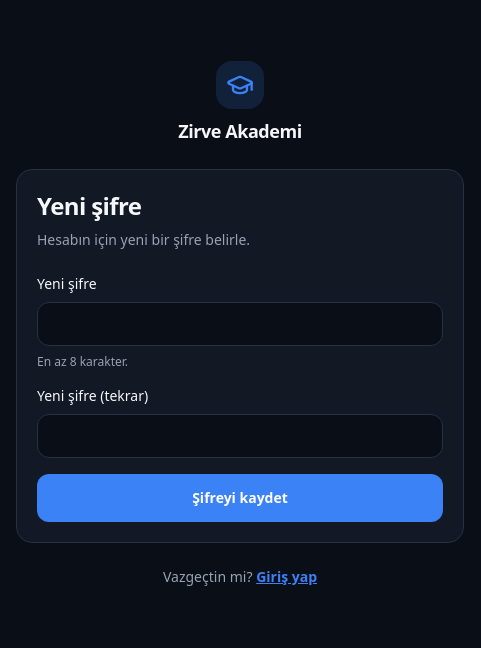
Scenario: şifre sıfırlama token ile şifreyi değiştirir ve girişe döner
This screenshot has width=481, height=648.
Step 1. Type "gizli-sifre-123" into the password field labelled "Yeni şifre" → (240, 324), box [37,302,443,346]
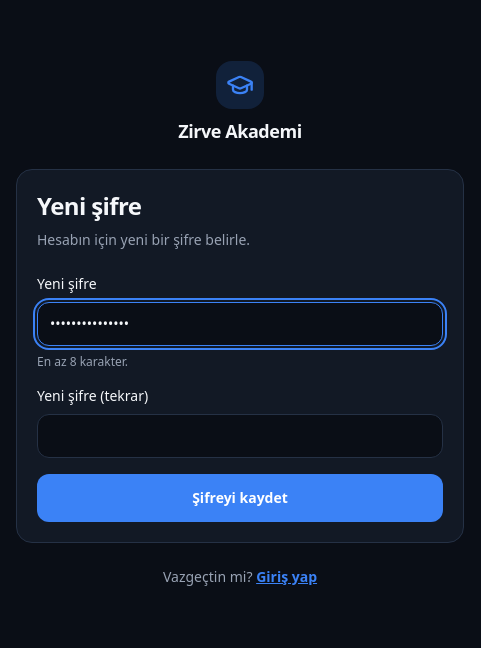
Step 2. Type "gizli-sifre-123" into the password field labelled "Yeni şifre (tekrar)" → (240, 436), box [37,414,443,458]
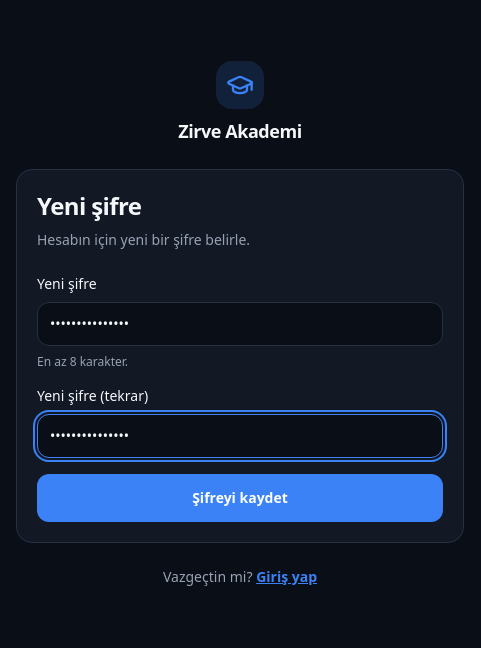
Step 3. Click the button "Şifreyi kaydet" → click(240, 498), box [37,474,443,522]
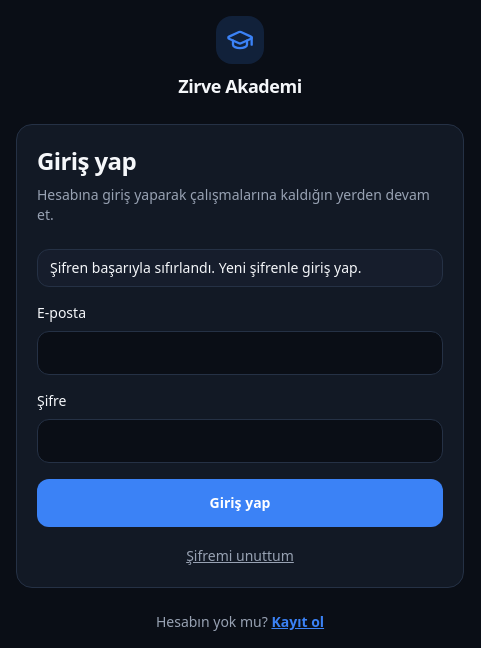
Expected: the text "Şifren başarıyla sıfırlandı. Yeni şifrenle giriş yap." is shown, [37,249,443,287]
Expected: the heading "Giriş yap" is shown, [37,144,136,177]
